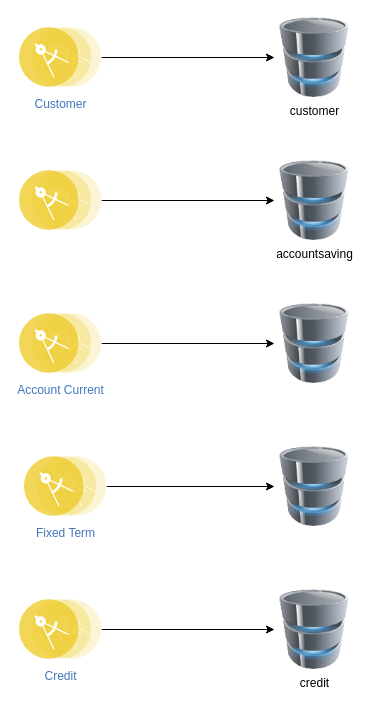
The diagram is 372 pixels wide and 707 high, and some of its shapes have lost their labels. Each missing label, with the centre of its shape:
Accoung Saving: pixel 60 200
accountcurrent: pixel 314 343
fixedterm: pixel 314 486
